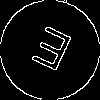E: (25, 25, 75, 81)
